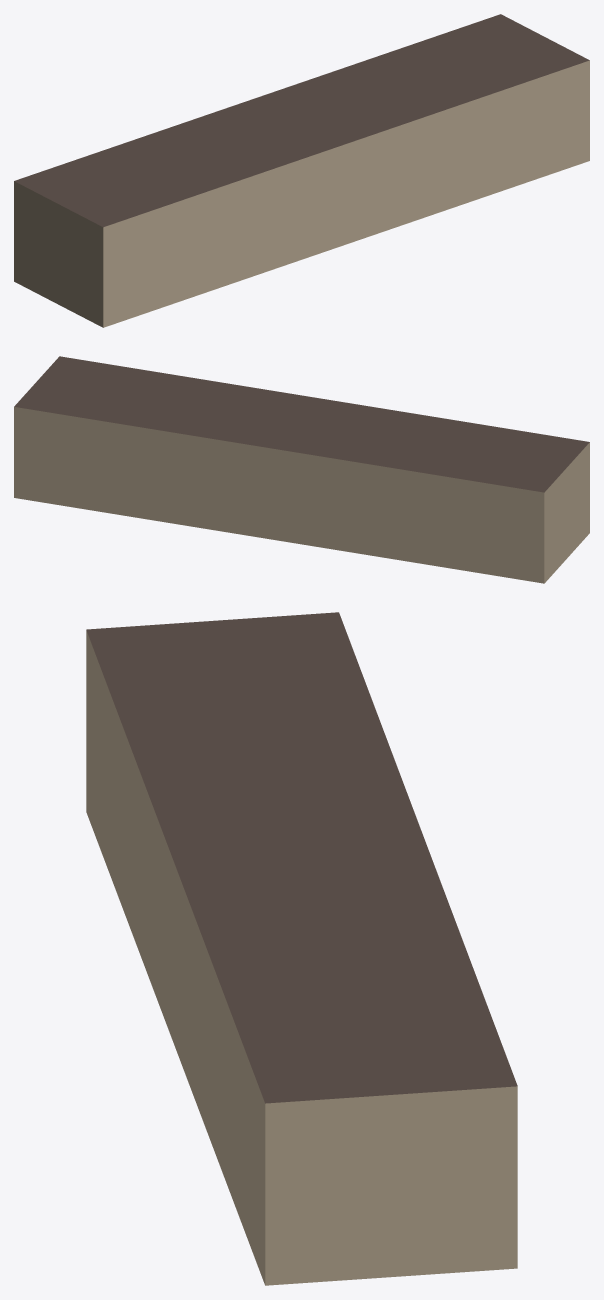
3 renders of one model, top to bottom at view 1: azimuth 30°, elevation 25°; view 2: azimuth 150°, elevation 25°; view 3: azimuth 270°, elevation 25°, orthographic. The views are drawn at different scales.
Parts seen in each view (by area): view 1: HP-w859424225; view 2: HP-w859424225; view 3: HP-w859424225.
Part boxes in pixels (bbox=[...]): HP-w859424225: bbox=[14, 14, 589, 327]; HP-w859424225: bbox=[14, 356, 589, 583]; HP-w859424225: bbox=[86, 612, 517, 1285].
Bounding box in the file's own units: 52.04 × 9 × 19.33.
